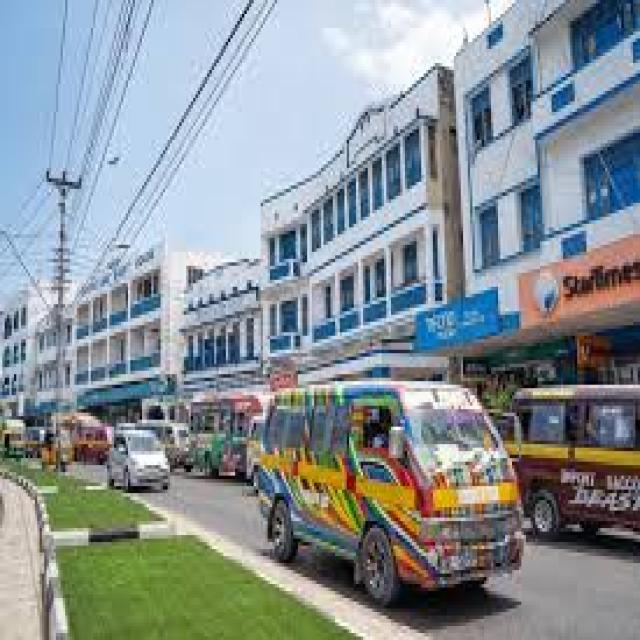bus: (184, 386, 242, 484)
matatu: (254, 368, 525, 605), (538, 368, 640, 554), (66, 405, 109, 461), (152, 405, 178, 462)
tuktuk: (41, 418, 63, 476)
